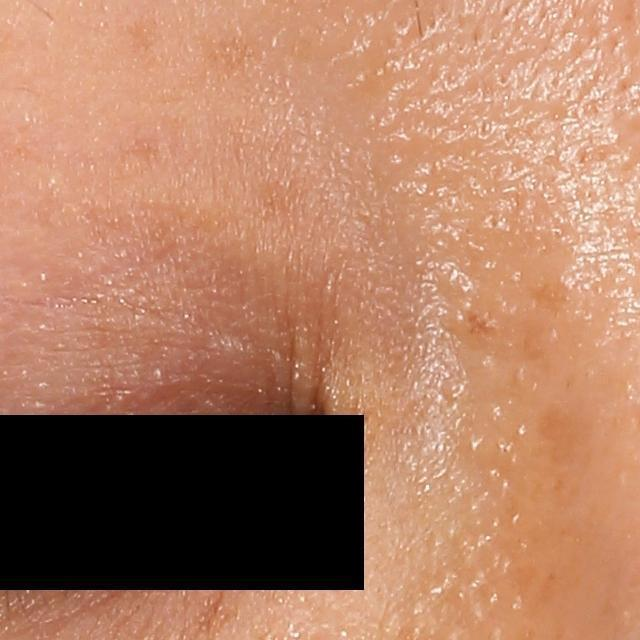melasma: (539, 404, 575, 470), (526, 281, 570, 315), (466, 309, 499, 340)
